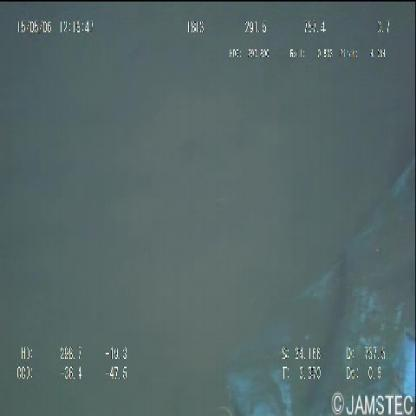Rác: (228, 159, 415, 415)
